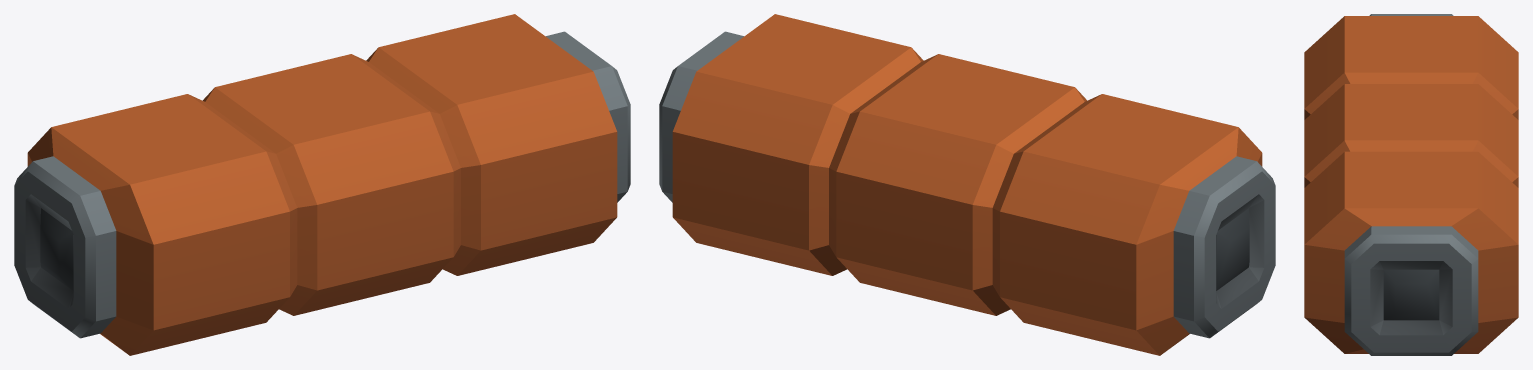
The model's file is space-tunnel-straight-b.glb.
The picture shows the model from 3 angles, left to right: view 1: azimuth 30°, elevation 25°; view 2: azimuth 150°, elevation 25°; view 3: azimuth 270°, elevation 25°; orthographic projection. The views are drawn at different scales.
Visible parts, largest first — view 1: tunnel_straight_B; view 2: tunnel_straight_B; view 3: tunnel_straight_B.
Part boxes in pixels (x1=…): tunnel_straight_B: x1=14, y1=14, x2=630, y2=355; tunnel_straight_B: x1=659, y1=14, x2=1275, y2=355; tunnel_straight_B: x1=1304, y1=14, x2=1518, y2=355.
Bounding box in the file's own units: 2 × 0.6 × 0.8.
